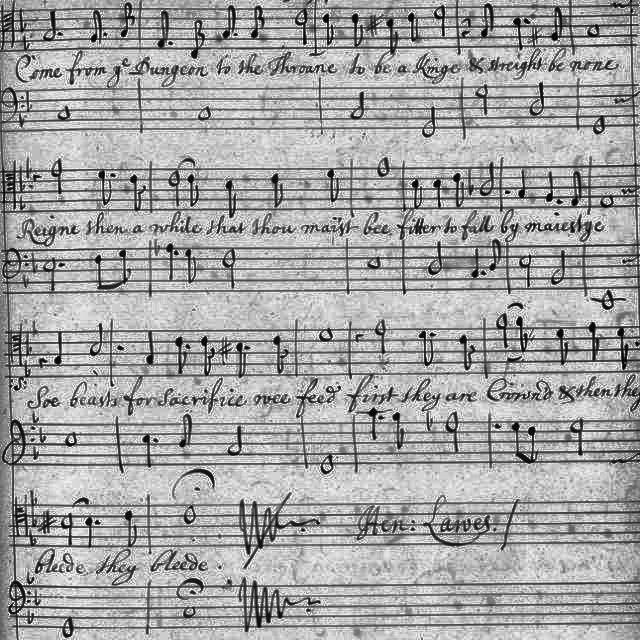Bass-clef: (2, 418, 28, 470), (7, 579, 25, 617), (1, 86, 19, 124), (2, 247, 22, 281)
Bemol: (126, 510, 142, 546), (465, 166, 475, 198), (16, 166, 26, 190), (18, 7, 28, 31), (151, 236, 161, 260), (29, 252, 39, 274), (424, 412, 436, 430), (24, 571, 36, 587), (26, 156, 34, 180), (24, 88, 32, 112), (24, 333, 32, 355), (28, 489, 38, 506), (24, 608, 34, 624), (20, 274, 30, 290), (23, 359, 32, 376), (29, 319, 38, 335), (16, 113, 24, 131), (22, 34, 30, 51), (32, 444, 40, 460), (39, 426, 47, 442), (28, 532, 36, 546), (34, 589, 40, 605), (19, 196, 25, 210), (32, 411, 40, 421), (32, 518, 36, 528)
Diez: (41, 507, 55, 535), (219, 338, 233, 364), (368, 14, 380, 38), (529, 24, 541, 48)
Eighth-note: (190, 16, 208, 59), (184, 249, 204, 287), (414, 329, 432, 371), (481, 2, 499, 40), (118, 1, 136, 38), (528, 424, 544, 464), (458, 333, 474, 371), (130, 173, 146, 210), (550, 6, 566, 42), (326, 168, 342, 204), (155, 10, 169, 50), (516, 315, 532, 349), (554, 328, 570, 362), (180, 414, 196, 448), (250, 5, 266, 39), (99, 169, 113, 205), (451, 172, 465, 208), (94, 254, 108, 290), (174, 334, 186, 374), (587, 320, 599, 360), (616, 328, 628, 368), (512, 422, 524, 462), (270, 173, 284, 207), (570, 172, 584, 206), (90, 8, 102, 46), (226, 178, 238, 216), (392, 412, 404, 450), (349, 14, 363, 46), (188, 174, 202, 206), (222, 4, 234, 40), (411, 178, 425, 208), (202, 334, 212, 376), (274, 335, 284, 377), (386, 19, 398, 53), (490, 239, 502, 273), (120, 249, 130, 285), (410, 12, 422, 40), (324, 12, 334, 44), (238, 341, 246, 379)
Full-note: (64, 430, 92, 450), (373, 156, 395, 178), (588, 114, 608, 138), (316, 323, 336, 345), (194, 102, 214, 122), (319, 453, 336, 475), (181, 505, 199, 525), (58, 107, 78, 125), (365, 251, 383, 269), (599, 192, 617, 208), (584, 22, 602, 38), (63, 617, 77, 637), (182, 606, 198, 618)
Half-note: (445, 412, 467, 454), (225, 424, 252, 456), (422, 242, 446, 276), (220, 247, 240, 287), (550, 250, 570, 286), (572, 418, 588, 460), (528, 84, 548, 116), (474, 84, 494, 116), (518, 254, 538, 286), (50, 157, 66, 196), (349, 92, 371, 120), (61, 512, 79, 546), (89, 324, 108, 356), (494, 310, 510, 348), (294, 8, 310, 44), (374, 318, 390, 354), (419, 108, 437, 138), (41, 10, 57, 42), (432, 4, 448, 36), (478, 164, 494, 196), (167, 171, 180, 209), (44, 257, 56, 291)
Quarter-note: (52, 330, 66, 366), (430, 178, 446, 208), (144, 329, 156, 366), (511, 17, 523, 47), (543, 171, 555, 201), (516, 170, 528, 198), (85, 516, 95, 548), (368, 408, 378, 440), (470, 248, 480, 280), (166, 242, 174, 278), (144, 434, 152, 466)
